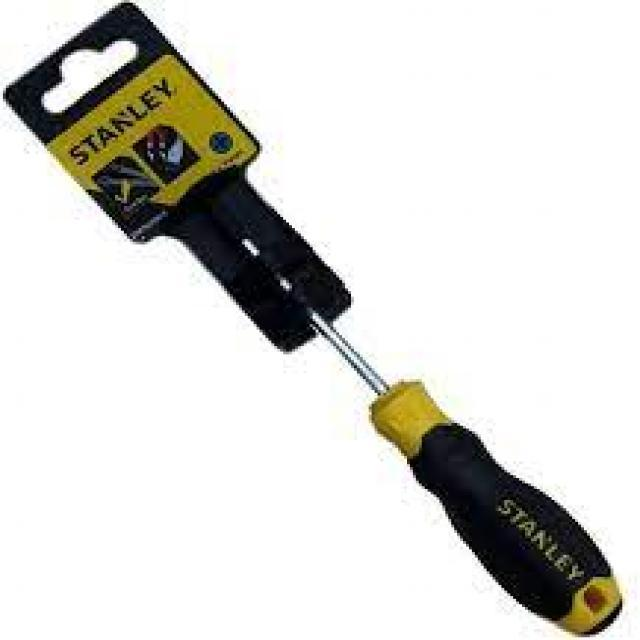screwdriver: (190, 184, 624, 637)
